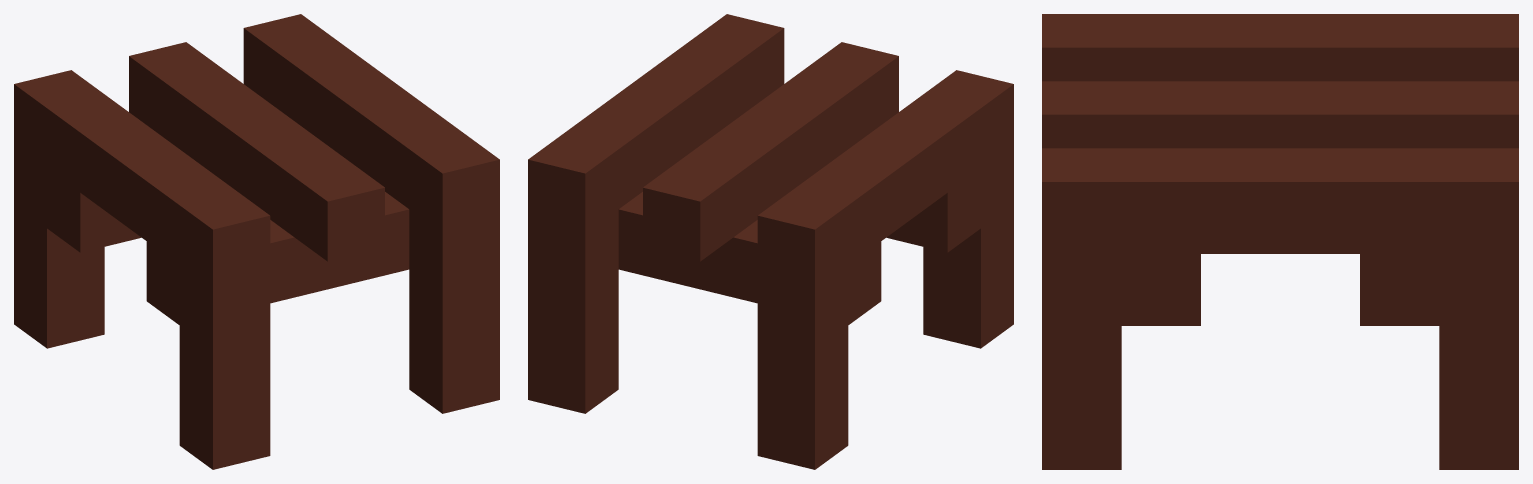
The model's file is SingelBench.dae.
The picture shows the model from 3 angles, left to right: view 1: azimuth 30°, elevation 25°; view 2: azimuth 150°, elevation 25°; view 3: azimuth 270°, elevation 25°; orthographic projection. The views are drawn at different scales.
Parts seen in each view (by area): view 1: SingelBench; view 2: SingelBench; view 3: SingelBench.
Part boxes in pixels (x1,y1,x2,y2): SingelBench: (14,14,499,469); SingelBench: (528,14,1013,469); SingelBench: (1042,14,1518,469).
Size of the model in its own units: 0.5 by 0.6 by 0.4.
